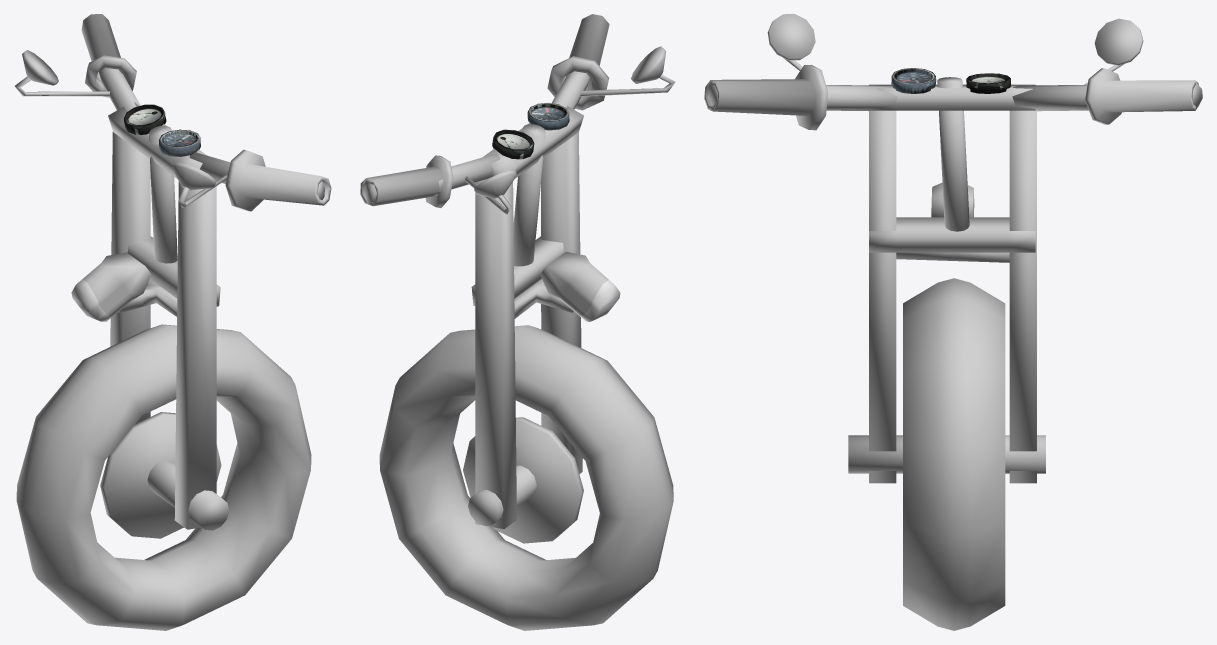
Rendered from SM_MotoGuidon00.fbx.
3 renders of one model, left to right at view 1: azimuth 30°, elevation 25°; view 2: azimuth 150°, elevation 25°; view 3: azimuth 270°, elevation 25°, orthographic. The views are drawn at different scales.
Parts seen in each view (by area): view 1: SM_MotoGuidon00; view 2: SM_MotoGuidon00; view 3: SM_MotoGuidon00.
Boxes of the visible parts, x1,y1,x2,y2 form: SM_MotoGuidon00: (15,14,331,630); SM_MotoGuidon00: (360,14,675,630); SM_MotoGuidon00: (704,14,1202,630).
Bounding box in the file's own units: 87.7 × 157 × 124.
